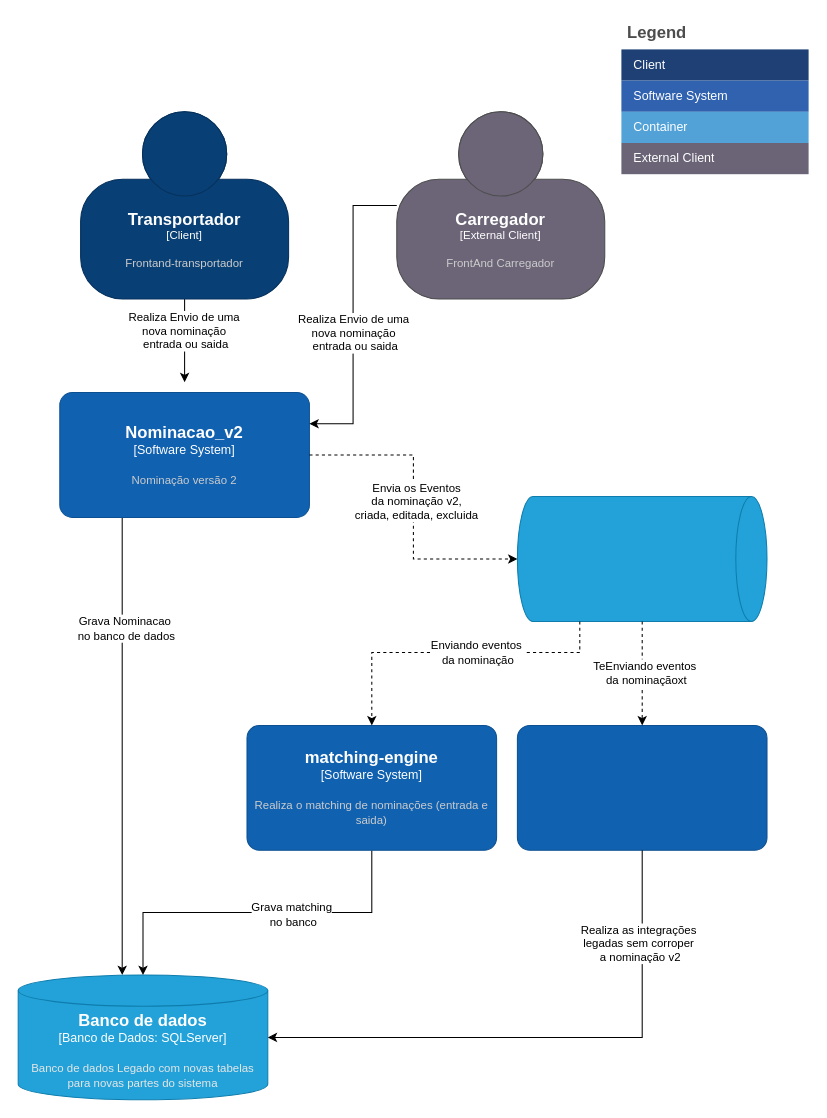
Image size: 827x1118. Some labels were removed from this diagram. Each missing label, with the centre of its shape:
"ACL-Nominacao [Software System] ACL Nominação 2.0" belongs at [641,787].
"events-nominacao-v2 [Container: Apache Kafka] Orquestra eventos da nominação v2" belongs at [641,558].
